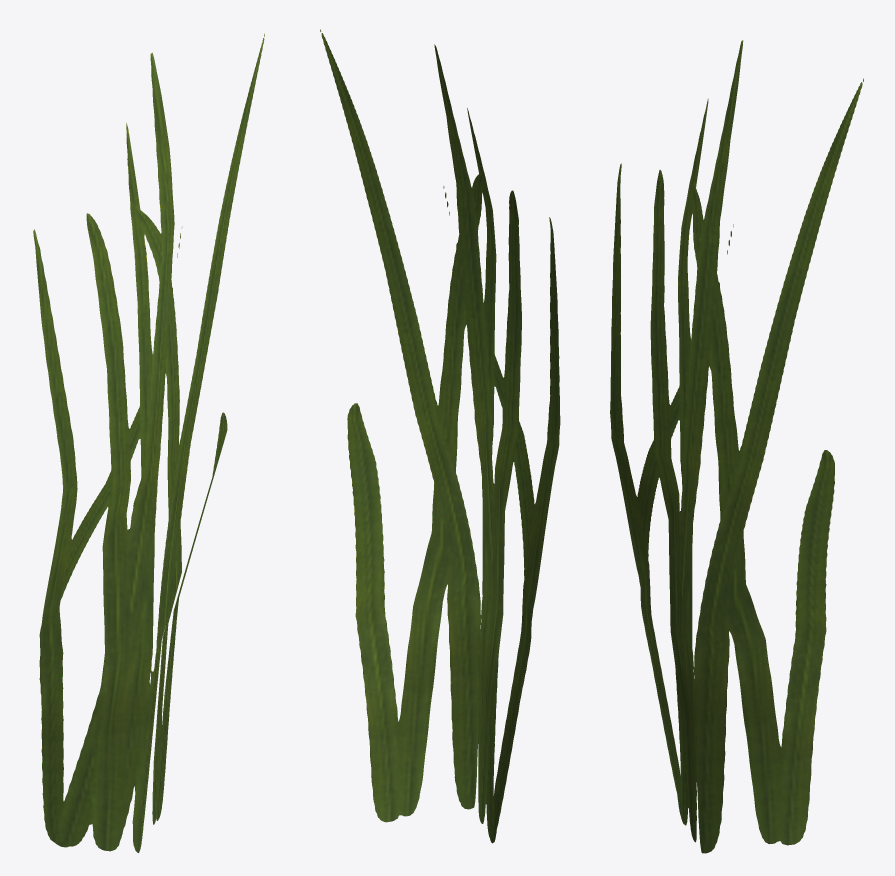
3 renders of one model, left to right at view 1: azimuth 30°, elevation 25°; view 2: azimuth 150°, elevation 25°; view 3: azimuth 330°, elevation 25°, orthographic. The views are drawn at different scales.
Visible parts, largest first — view 1: Posidonia_oceanica.001; view 2: Posidonia_oceanica.001; view 3: Posidonia_oceanica.001.
Part boxes in pixels (x1,y1,x2,y2): Posidonia_oceanica.001: (33,33,264,852); Posidonia_oceanica.001: (320,29,560,843); Posidonia_oceanica.001: (610,40,863,853).
Size of the model in its own units: 0.4042 by 1.18 by 0.147.
1 material, 1 textured.
